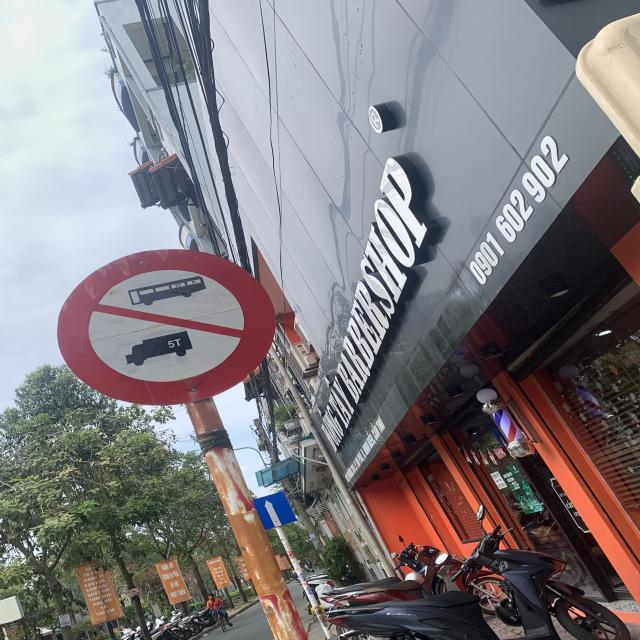Cam_XeTai_XeKhach: (55, 245, 279, 407)
